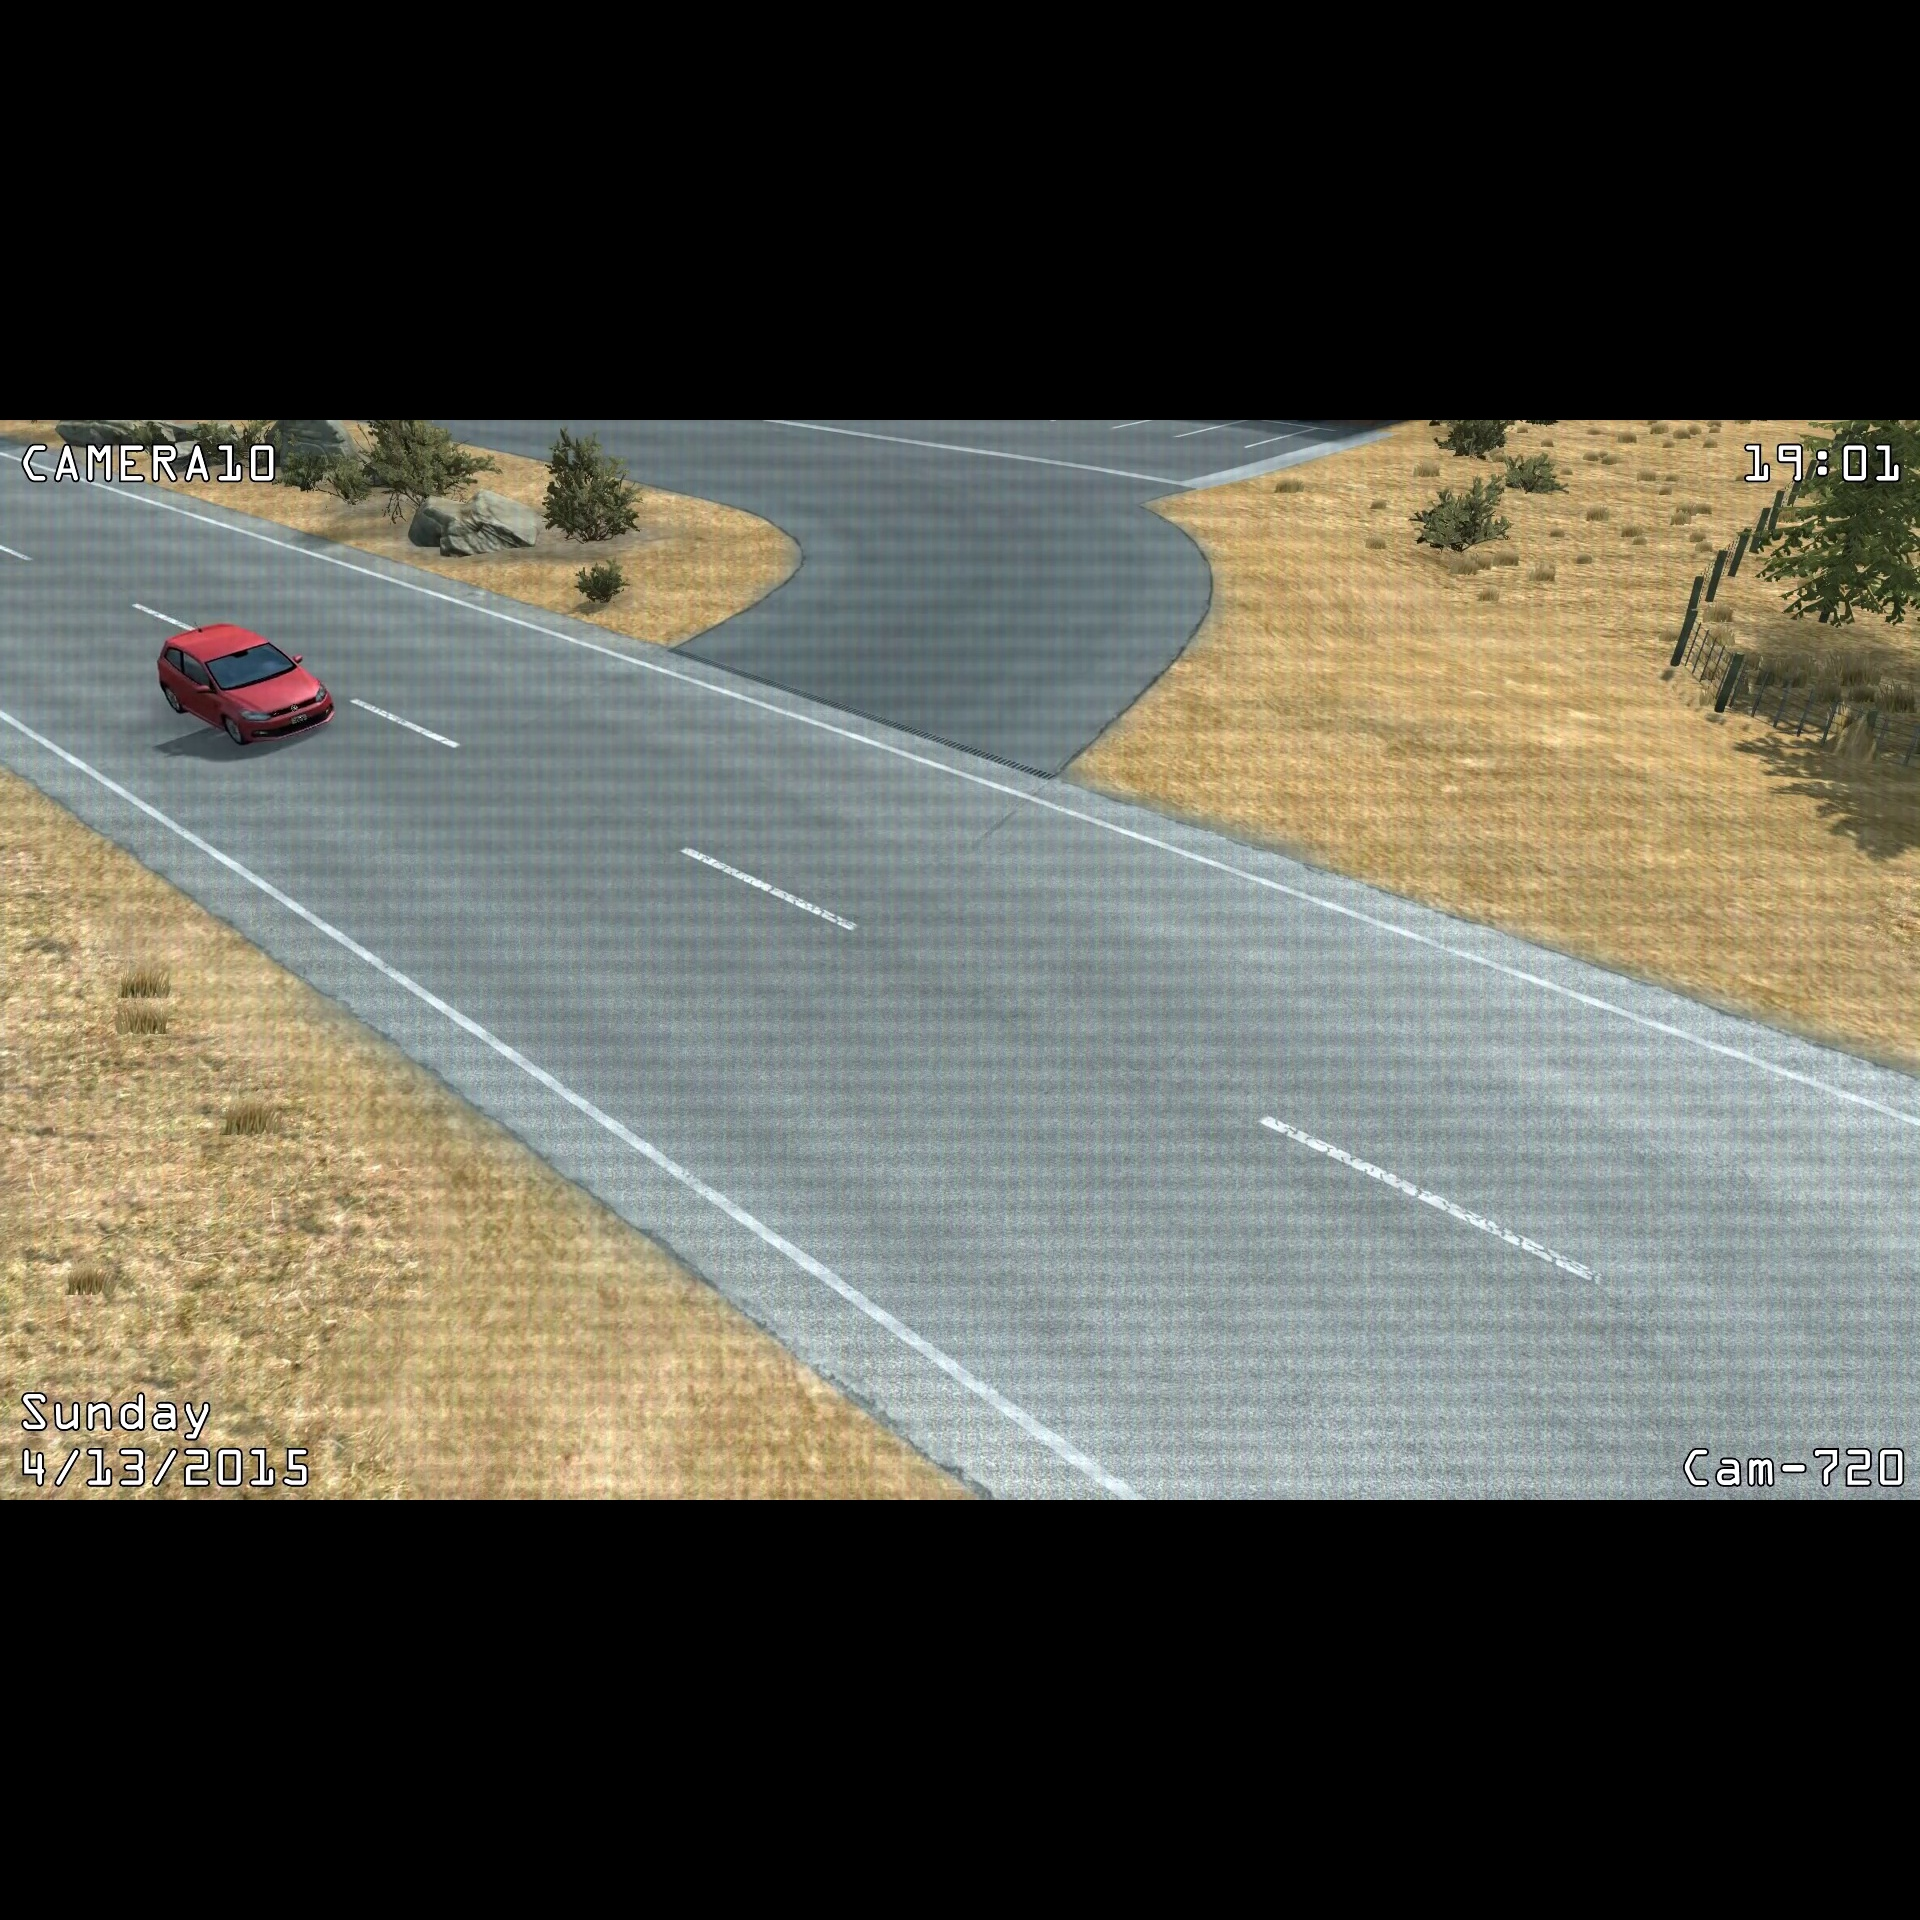vehicle: (153, 617, 341, 758)
